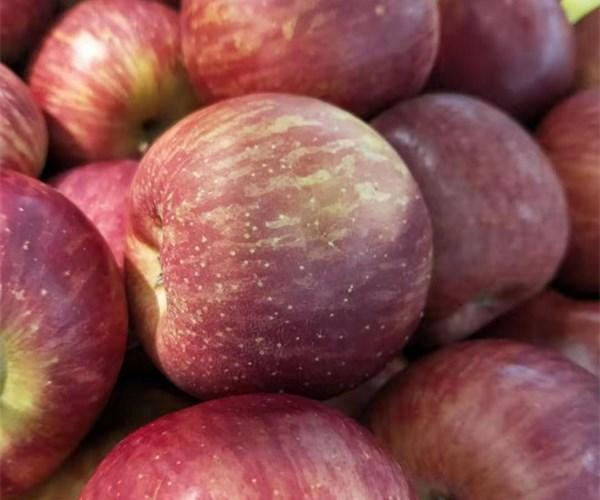apple: (127, 93, 435, 401)
